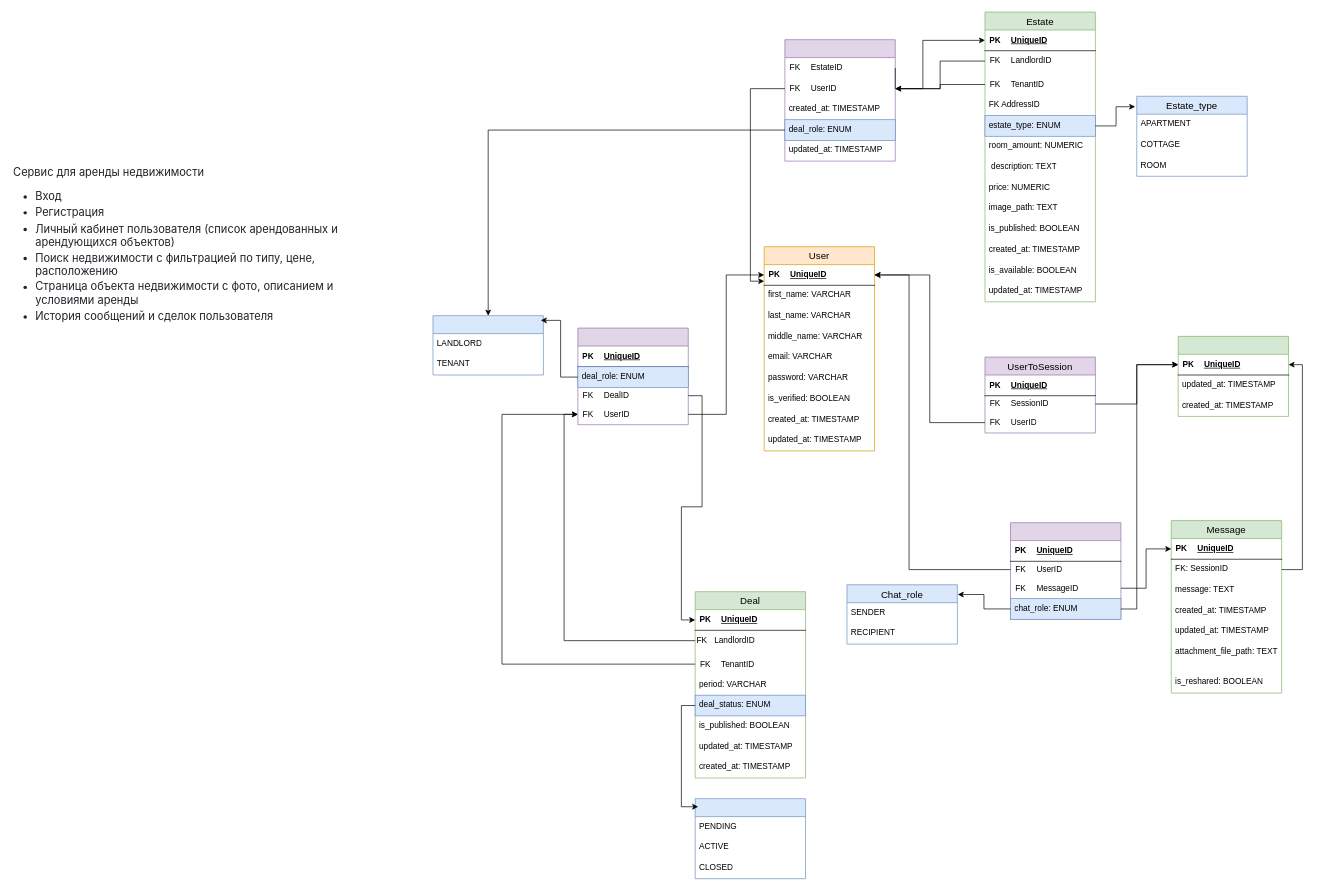
Some shapes in this 1320 by 893 pixel diagram are drawn without their labels. Each missing label, with the box of its shape:
Deal_role: (432, 315, 543, 375)
Deal_status: (694, 798, 806, 879)
Session: (1177, 336, 1289, 416)
UserToDeal: (577, 327, 688, 425)
UserToEstate: (784, 39, 895, 161)
UserToMessage: (1010, 522, 1121, 619)
